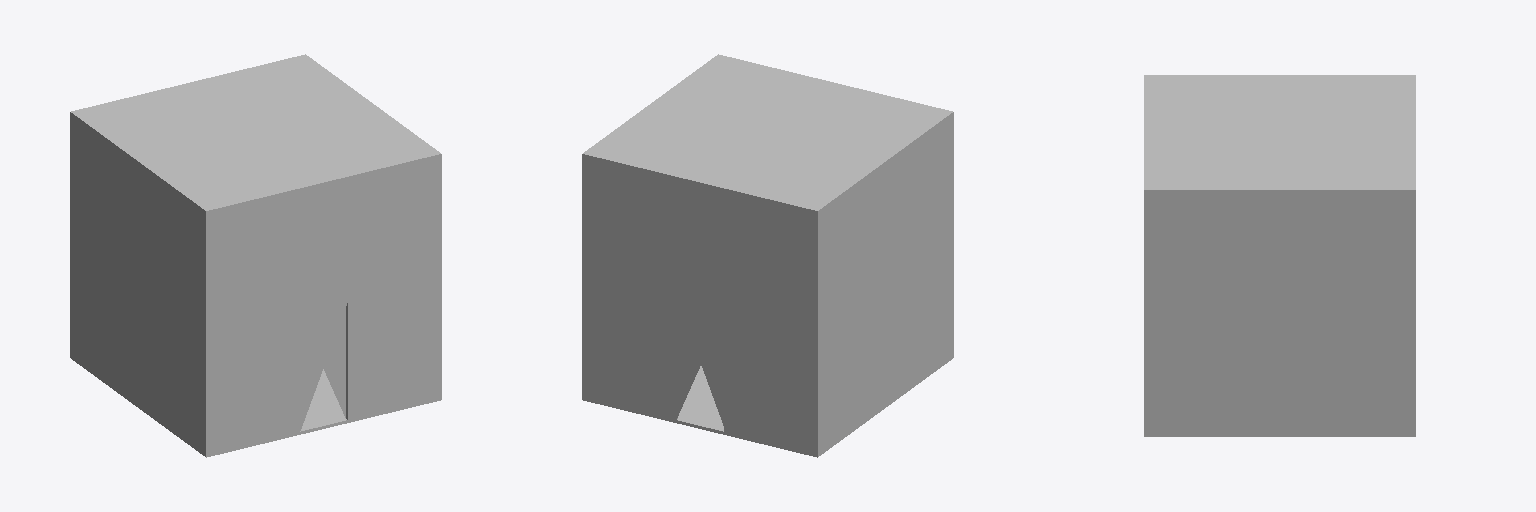
The model's file is room_NSEW_TheDeep.obj.
3 views of the same model, side by side, from view 1: azimuth 30°, elevation 25°; view 2: azimuth 150°, elevation 25°; view 3: azimuth 270°, elevation 25° (orthographic).
Visible parts, largest first — view 1: Cube; view 2: Cube; view 3: Cube.
Part boxes in pixels (bbox=[...]): Cube: bbox=[70, 54, 441, 457]; Cube: bbox=[582, 54, 953, 457]; Cube: bbox=[1144, 75, 1415, 436].
Bounding box in the file's own units: 20 × 20 × 20.